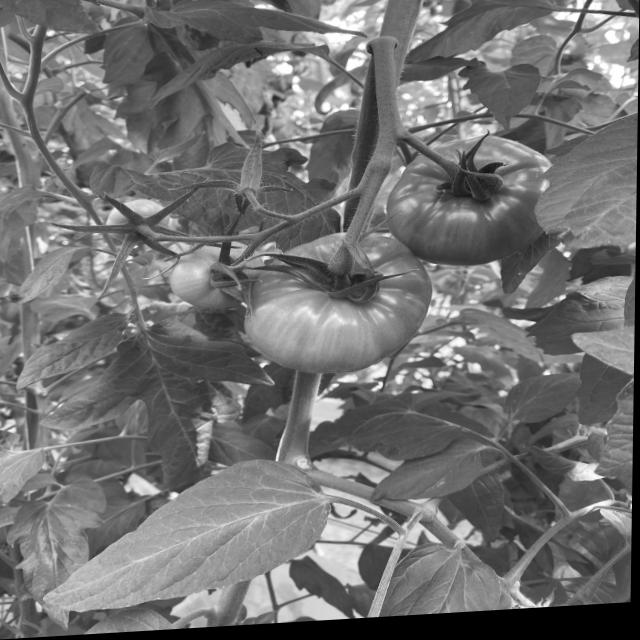yesil: (165, 141, 551, 375)
